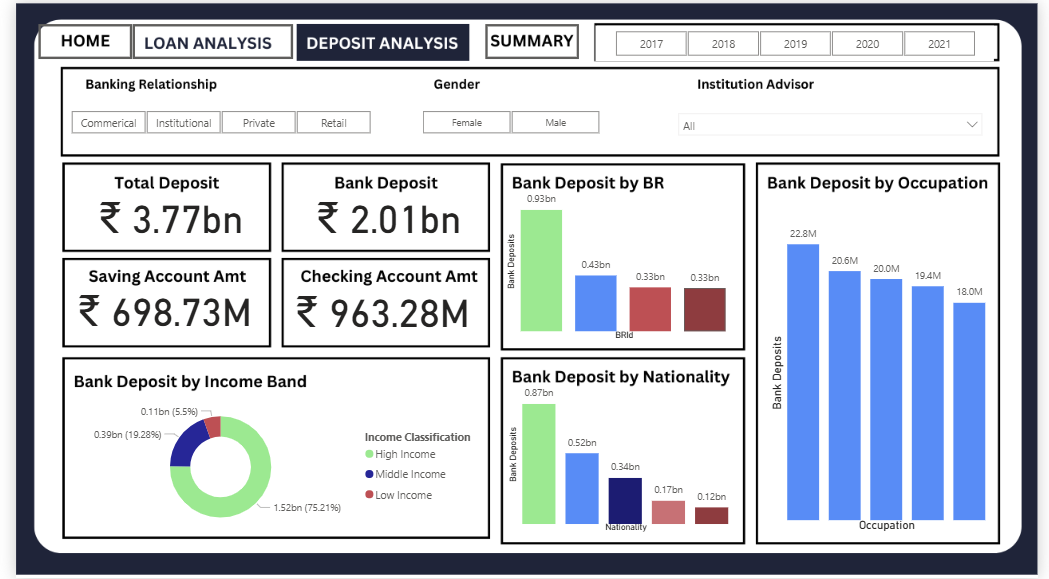

What the dashboard file says about the page in this screenshot:
{"tool":"powerbi","page":{"name":"Deposits Analysis","canvas":[1280,720],"ordinal":2},"visuals":[{"type":"card","fields":{"Values":["Table1.Total Deposits"]},"box":[69.7,223.1,247,81.7],"z":0},{"type":"card","fields":{"Values":["Sum(Table1.Saving Accounts)"]},"box":[53.8,340.6,262.9,83.7],"z":1000},{"type":"card","fields":{"Values":["Sum(Table1.Checking Accounts)"]},"box":[316.7,342.6,284.8,81.7],"z":2000},{"type":"card","fields":{"Values":["Sum(Table1.Bank Deposits)"]},"box":[346.6,223.1,241,81.7],"z":3000},{"type":"actionButton","title":"HOME","box":[145.4,25.9,201.2,43.8],"z":4000},{"type":"actionButton","title":"HOME","box":[587.6,25.9,117.5,43.8],"z":5000},{"type":"actionButton","title":"HOME","box":[27.9,25.9,117.5,43.8],"z":6000},{"type":"donutChart","fields":{"Category":["Table1.Income Classification"],"Y":["Sum(Table1.Bank Deposits)"]},"box":[69.7,493.9,517.9,173.3],"z":6001},{"type":"clusteredColumnChart","fields":{"Category":["Table1.BRId"],"Y":["Sum(Table1.Bank Deposits)"]},"box":[610.8,222.7,286.3,203.6],"z":6002},{"type":"clusteredColumnChart","fields":{"Y":["Sum(Table1.Bank Deposits)"],"Category":["Table1.Nationality"]},"box":[611.5,464.1,286.8,203.2],"z":6003},{"type":"clusteredColumnChart","fields":{"Category":["Table1.Occupation"],"Y":["Sum(Table1.Bank Deposits)"]},"box":[940.1,264.9,280.8,402.3],"z":6004},{"type":"slicer","fields":{"Values":["Table1.BRId"]},"box":[43.8,127.5,424.2,41.8],"z":6005},{"type":"slicer","fields":{"Values":["Table1.GenderId"]},"box":[484,127.5,270.9,41.8],"z":6006},{"type":"slicer","fields":{"Values":["Table1.IAId"]},"box":[820.6,127.5,400.3,41.8],"z":6007},{"type":"slicer","fields":{"Values":["Table1.Joining Year"]},"box":[726.9,27,499.5,44.5],"z":6008}]}

Visuals, with their boxes in screenshot pixels (x1, y1, x2, y2), scaled from the page's 1280x720 canvas onto the 1049x579 screenshot:
card - Table1.Total Deposits: box(57, 179, 260, 245)
card - Sum(Table1.Saving Accounts): box(44, 274, 260, 341)
card - Sum(Table1.Checking Accounts): box(260, 276, 493, 341)
card - Sum(Table1.Bank Deposits): box(284, 179, 482, 245)
"HOME" actionButton: box(119, 21, 284, 56)
"HOME" actionButton: box(482, 21, 578, 56)
"HOME" actionButton: box(23, 21, 119, 56)
donutChart - Table1.Income Classification x Sum(Table1.Bank Deposits): box(57, 397, 482, 537)
clusteredColumnChart - Table1.BRId x Sum(Table1.Bank Deposits): box(501, 179, 735, 343)
clusteredColumnChart - Sum(Table1.Bank Deposits) x Table1.Nationality: box(501, 373, 736, 537)
clusteredColumnChart - Table1.Occupation x Sum(Table1.Bank Deposits): box(770, 213, 1001, 537)
slicer - Table1.BRId: box(36, 103, 384, 136)
slicer - Table1.GenderId: box(397, 103, 619, 136)
slicer - Table1.IAId: box(673, 103, 1001, 136)
slicer - Table1.Joining Year: box(596, 22, 1005, 57)
